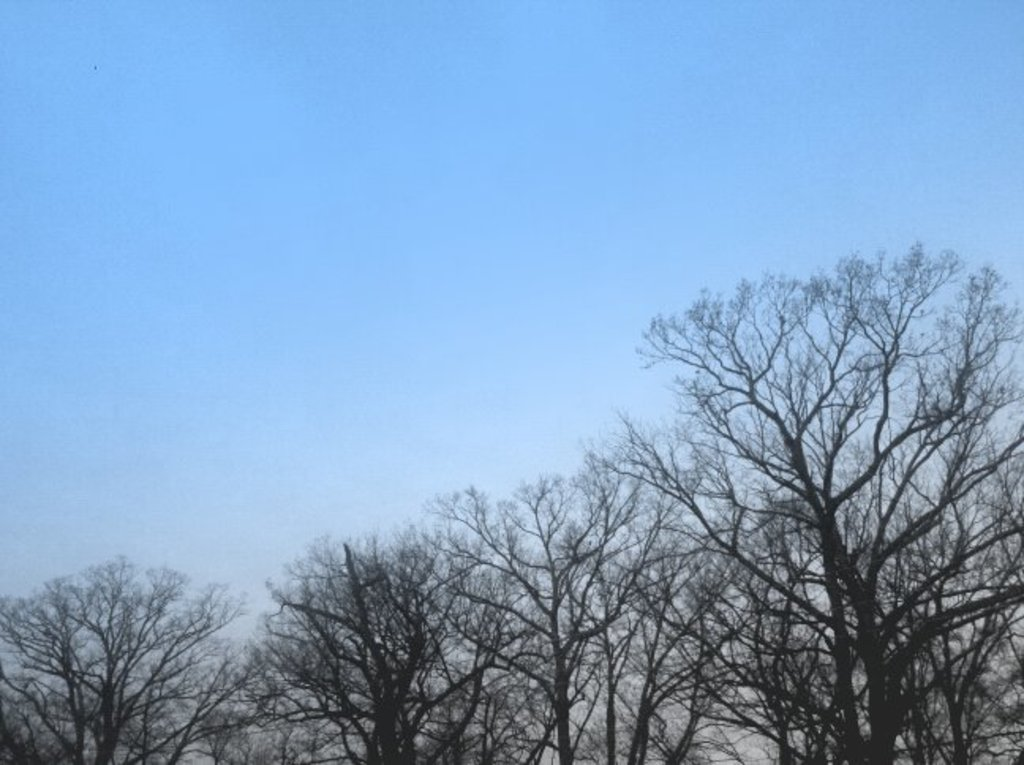Tree: (489, 233, 989, 752), (0, 482, 572, 763)
